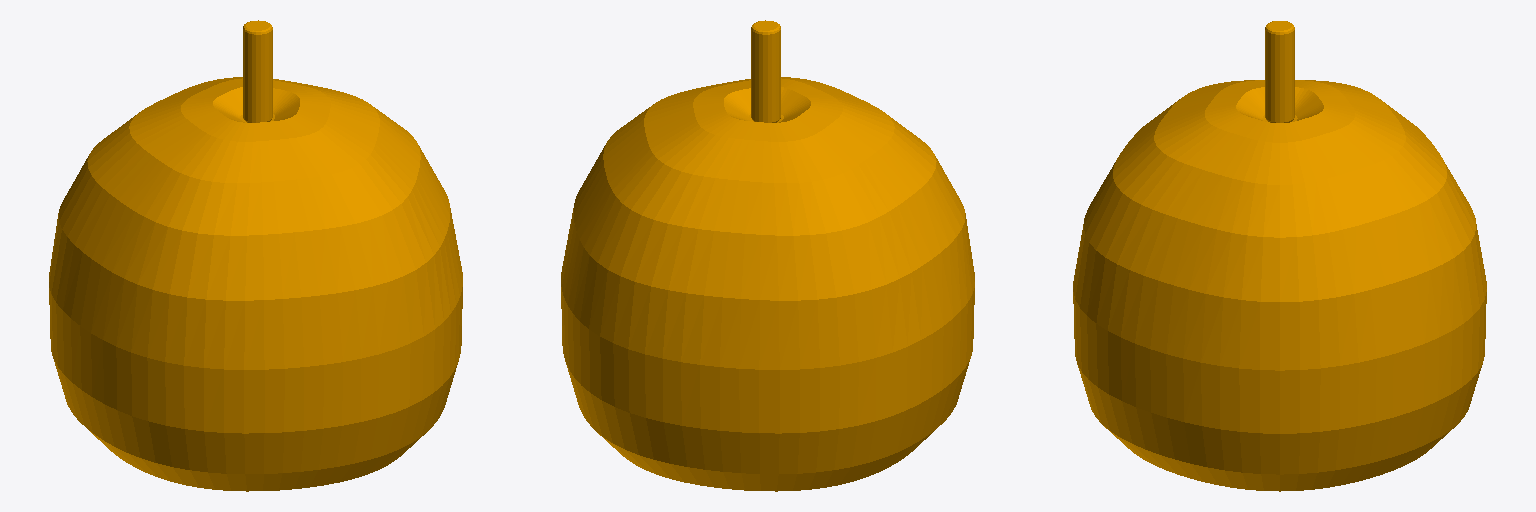
The robot description file, URDF, robot "apple":
<robot name="apple">
  <link name="apple">
    <inertial>
      <origin xyz="0.000352083 0 0.035" rpy="0 0 0" />
      <mass value="0.15" />
      <inertia ixx="0.000112958" iyy="0.000112924" izz="0.000103382" ixy="0" ixz="0" iyz="0" />
    </inertial>
    <visual name="apple">
      <origin xyz="0 0 0" rpy="0 0 0" />
      <geometry>
        <mesh filename="apple.obj" />
      </geometry>
    </visual>
    <collision name="apple">
      <origin xyz="0 0 0" rpy="0 0 0" />
      <geometry>
        <mesh filename="apple.obj" />
      </geometry>
    </collision>
  </link>
</robot>

--- What the picture shows (computed from the rendered views, not written in the file) ---
3 views of the same robot in one strip: view 1: azimuth 30°, elevation 25°; view 2: azimuth 150°, elevation 25°; view 3: azimuth 270°, elevation 25° (orthographic).
Model apple with 1 links and 0 joints (none), rooted at apple, posed all joints at 0.
Visible links, largest first — view 1: apple; view 2: apple; view 3: apple.
Link boxes in pixels (x1,y1,x2,y2): apple: (49, 20, 462, 491); apple: (561, 20, 974, 491); apple: (1073, 21, 1486, 491).
Size in the robot's own frame: 0.0643 by 0.0643 by 0.07 metres.
Meshes: 1 distinct files referenced, 1 mesh visuals loaded (1 OBJ).
